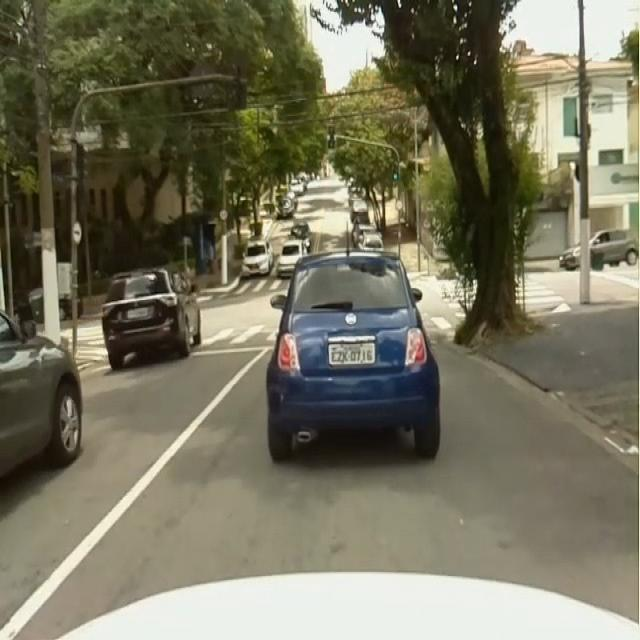car: (269, 251, 429, 383), (1, 312, 82, 476), (102, 269, 201, 369), (269, 384, 294, 459), (591, 230, 638, 269), (241, 241, 272, 277), (278, 240, 308, 277), (559, 245, 580, 269)
